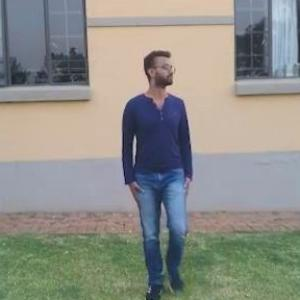follow: (118, 39, 203, 299)
